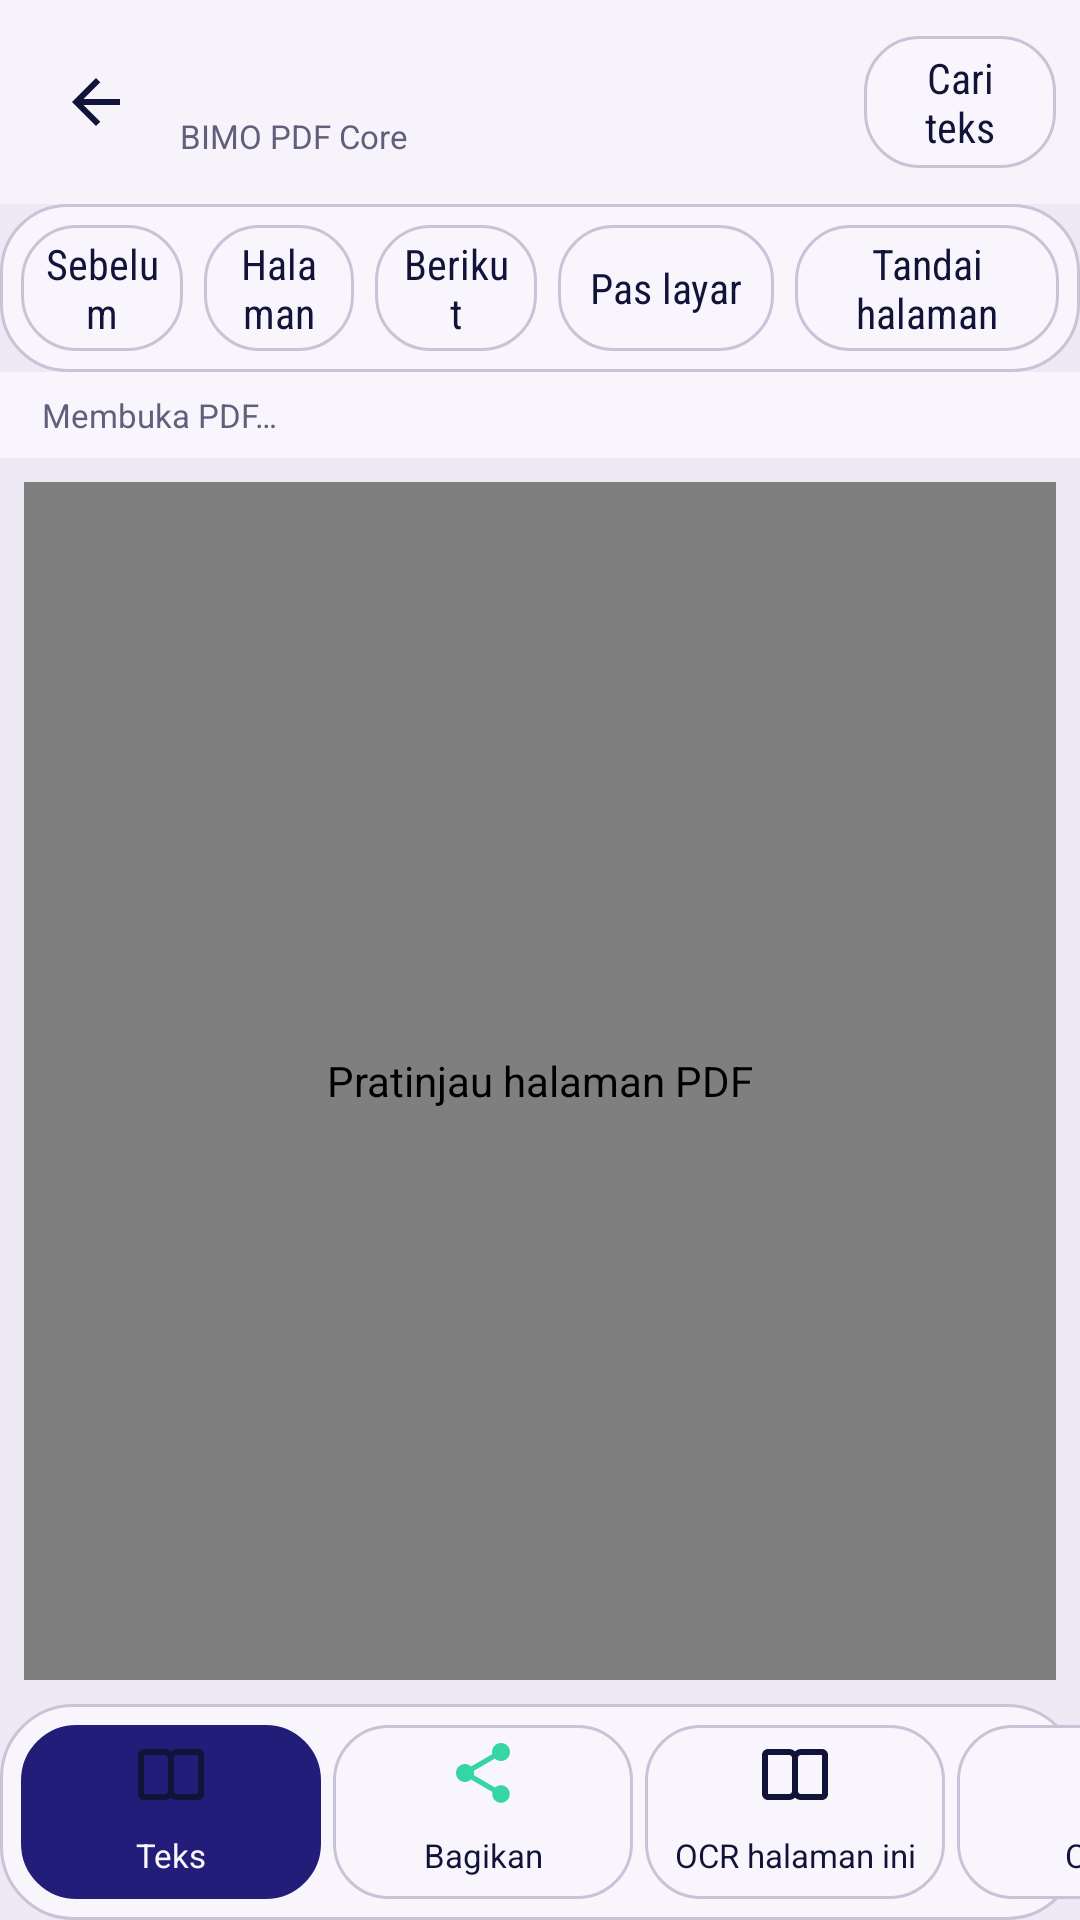

Named icons in this screenshot (1080*1920) and their bounding boxes, (x1, y1, x2, y2):
Kembali: (72, 78, 120, 126)
